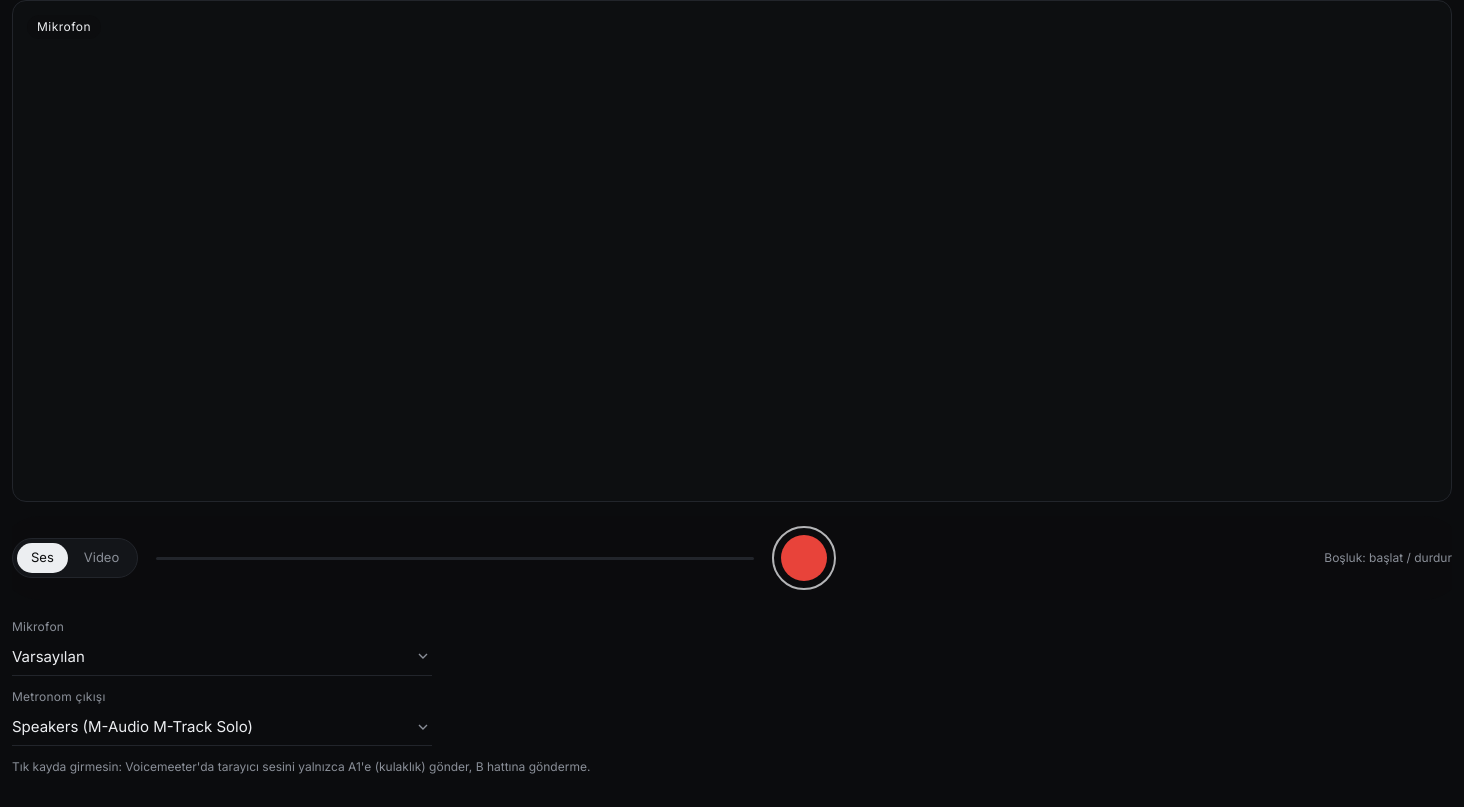
Test case: Recorder › missing camera shows a Turkish message
This screenshot has width=1464, height=807.
Expected: the button named "Kaydet" is enabled, [772,526,836,590]
Click the button "Video": (102, 558) [70,543,133,573]
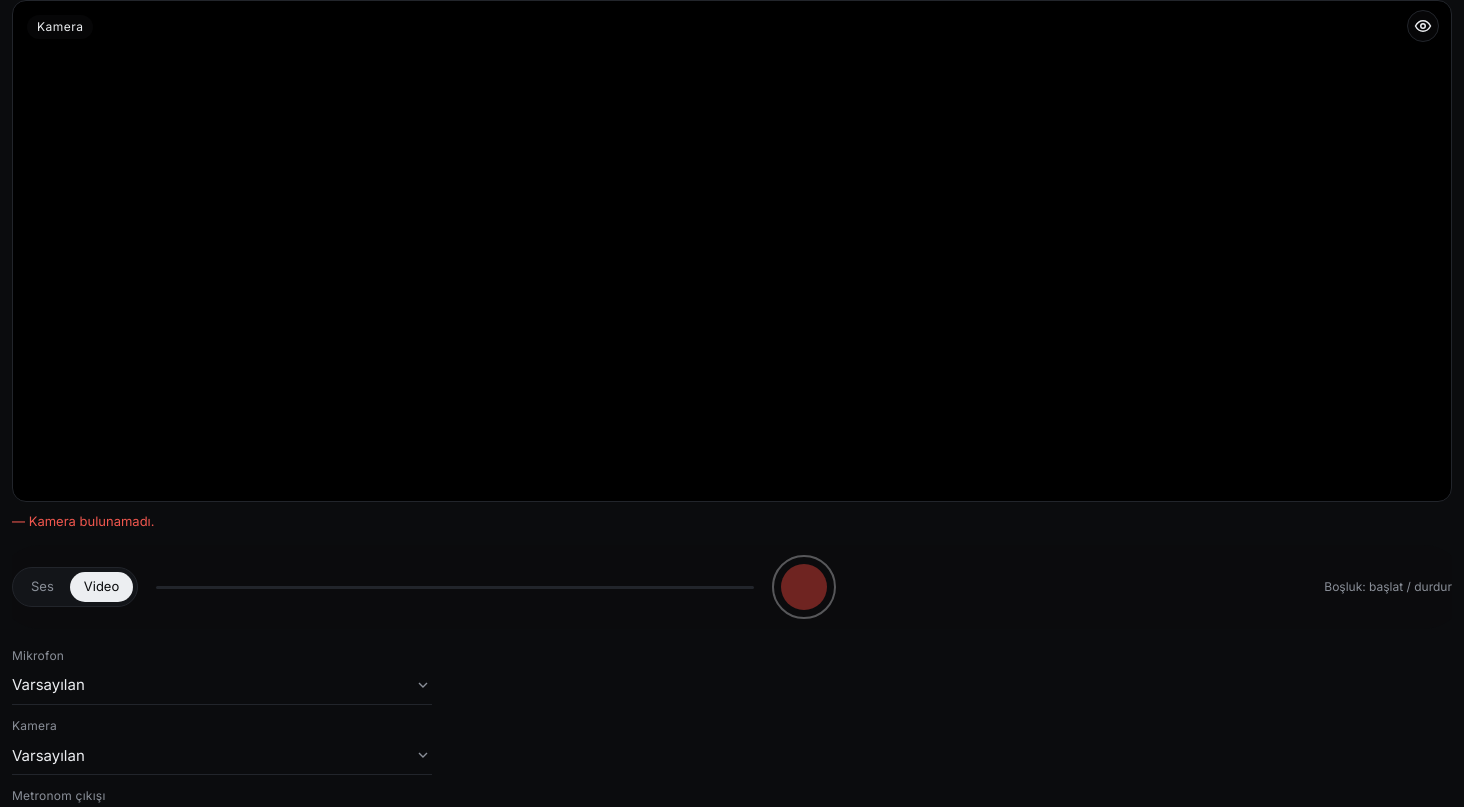
Result: the text "Kamera bulunamadı." is shown at [29,513,155,529]
